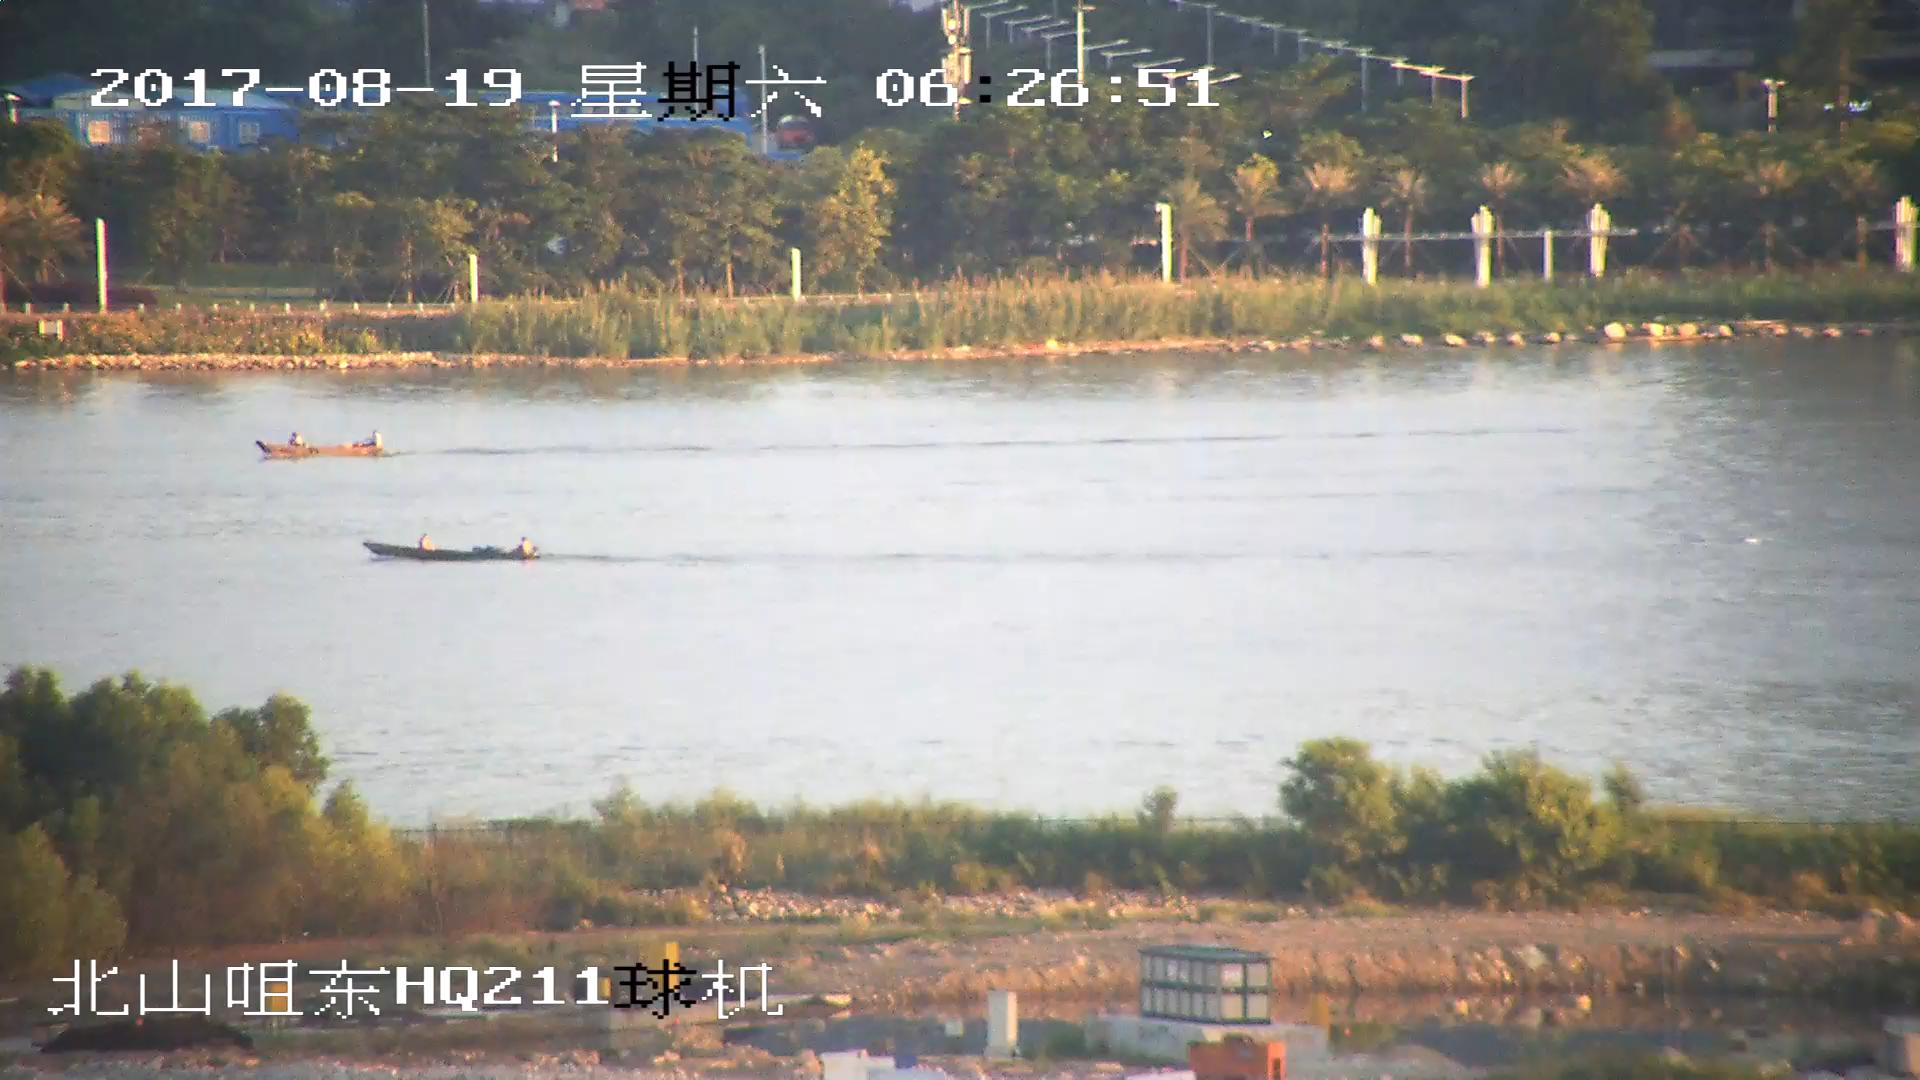fishing boat: (366, 532, 543, 565), (257, 432, 382, 459)
